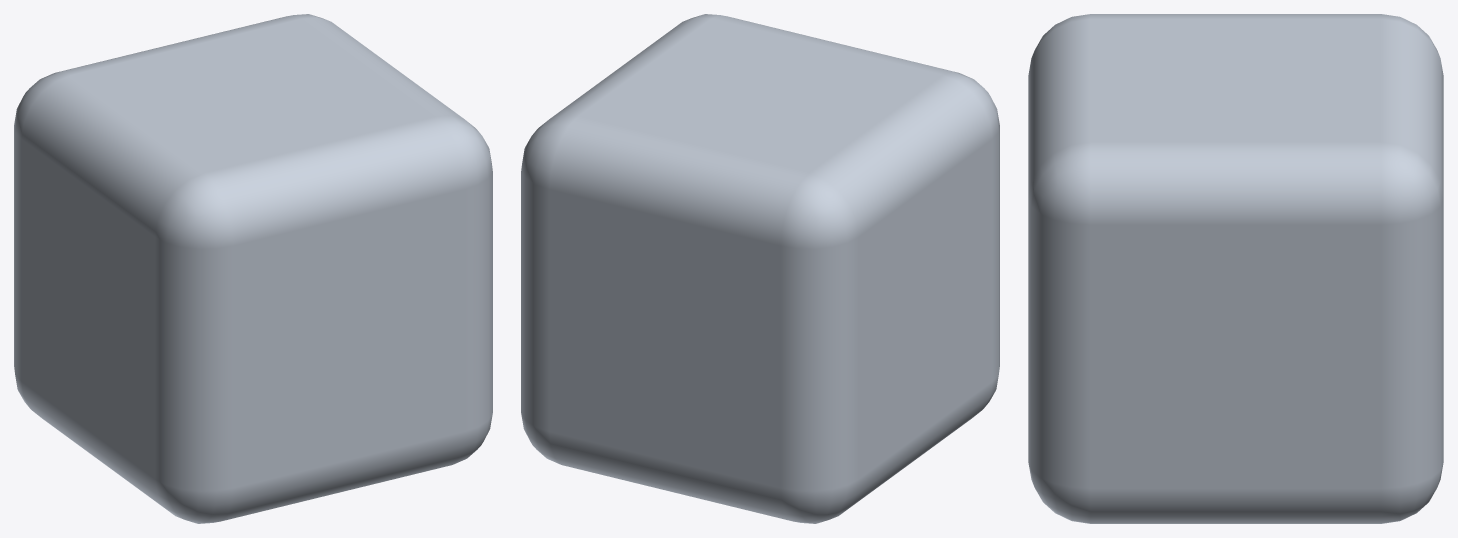
Rendered from basic_cube.fbx.
The picture shows the model from 3 angles, left to right: view 1: azimuth 30°, elevation 25°; view 2: azimuth 150°, elevation 25°; view 3: azimuth 270°, elevation 25°; orthographic projection. The views are drawn at different scales.
Visible parts, largest first — view 1: 큐브; view 2: 큐브; view 3: 큐브.
Part boxes in pixels (<box>): 큐브: <box>14,14,492,523</box>; 큐브: <box>521,14,999,523</box>; 큐브: <box>1028,14,1443,523</box>.
Bounding box in the file's own units: 200 × 200 × 200.
